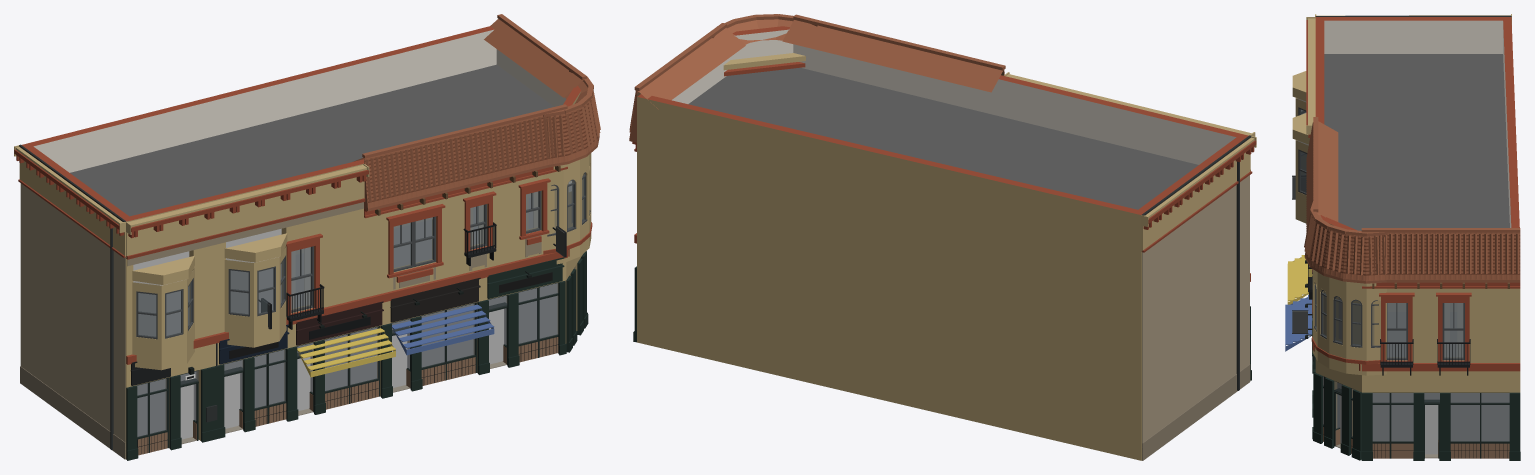
Rendered from exterior.glb.
3 views of the same model, side by side, from view 1: azimuth 30°, elevation 25°; view 2: azimuth 150°, elevation 25°; view 3: azimuth 270°, elevation 25° (orthographic). The views are drawn at different scales.
Parts seen in each view (by area): view 1: shell, roof, return-wall, shadow-proxy, tile-roof, part-cornice, glazing, storefront-piers, bay-windows, storefront, tile-barrels, sign-fascia (+11 smaller); view 2: shell, roof, return-wall, tile-roof, part-cornice, corner-bay; view 3: roof, shell, tile-roof, glazing, tile-barrels, shadow-proxy, storefront-piers, corner-bay, storefront, window-surrounds, awning-under-board, corner-bay-glazing (+9 smaller).
Boxes of the visible parts, x1,y1,x2,y2 form: shell: (22, 26, 582, 459); roof: (70, 64, 553, 216); return-wall: (19, 144, 125, 459); shadow-proxy: (133, 198, 557, 439); tile-roof: (353, 14, 599, 215); part-cornice: (14, 145, 369, 259); glazing: (137, 191, 575, 437); storefront-piers: (126, 251, 588, 460); bay-windows: (132, 233, 287, 370); storefront: (136, 257, 581, 455); tile-barrels: (365, 91, 600, 201); sign-fascia: (130, 265, 564, 385); shell: (637, 26, 1248, 460); roof: (688, 67, 1198, 209); return-wall: (1142, 135, 1251, 460); tile-roof: (629, 14, 1005, 142); part-cornice: (1004, 72, 1256, 252); corner-bay: (723, 53, 805, 76); roof: (1324, 54, 1509, 230); shell: (1315, 17, 1520, 436); tile-roof: (1304, 117, 1520, 288); glazing: (1323, 303, 1509, 441); tile-barrels: (1304, 122, 1519, 275); shadow-proxy: (1337, 312, 1509, 454); storefront-piers: (1312, 356, 1520, 460); corner-bay: (1311, 269, 1387, 375); storefront: (1323, 376, 1509, 458); window-surrounds: (1312, 269, 1471, 361); awning-under-board: (1285, 255, 1312, 351); corner-bay-glazing: (1314, 283, 1380, 347).
Size of the model in its own units: 21.59 by 10.16 by 9.41.
